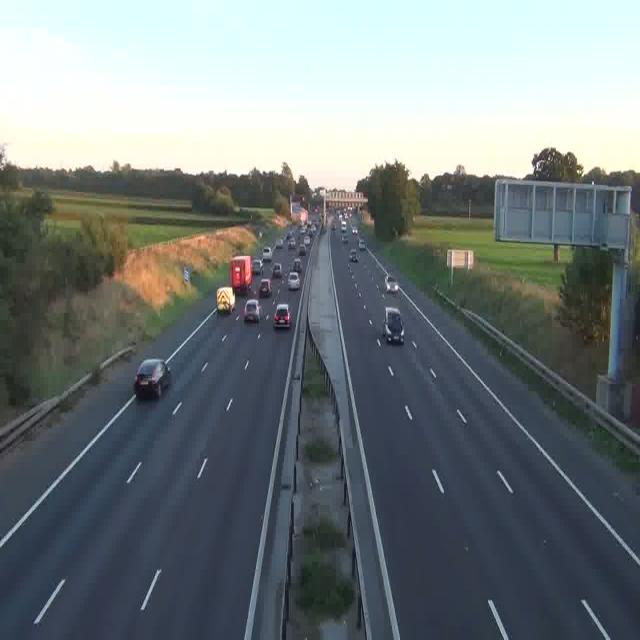car: (134, 359, 170, 400), (383, 306, 403, 343), (214, 286, 234, 315), (274, 302, 292, 329), (242, 298, 262, 321), (384, 274, 400, 293), (256, 277, 270, 298), (286, 273, 300, 291), (271, 262, 283, 278), (348, 249, 358, 262), (297, 243, 307, 256), (283, 232, 291, 244), (305, 229, 313, 240), (340, 234, 348, 244)
truck: (231, 254, 253, 292)
